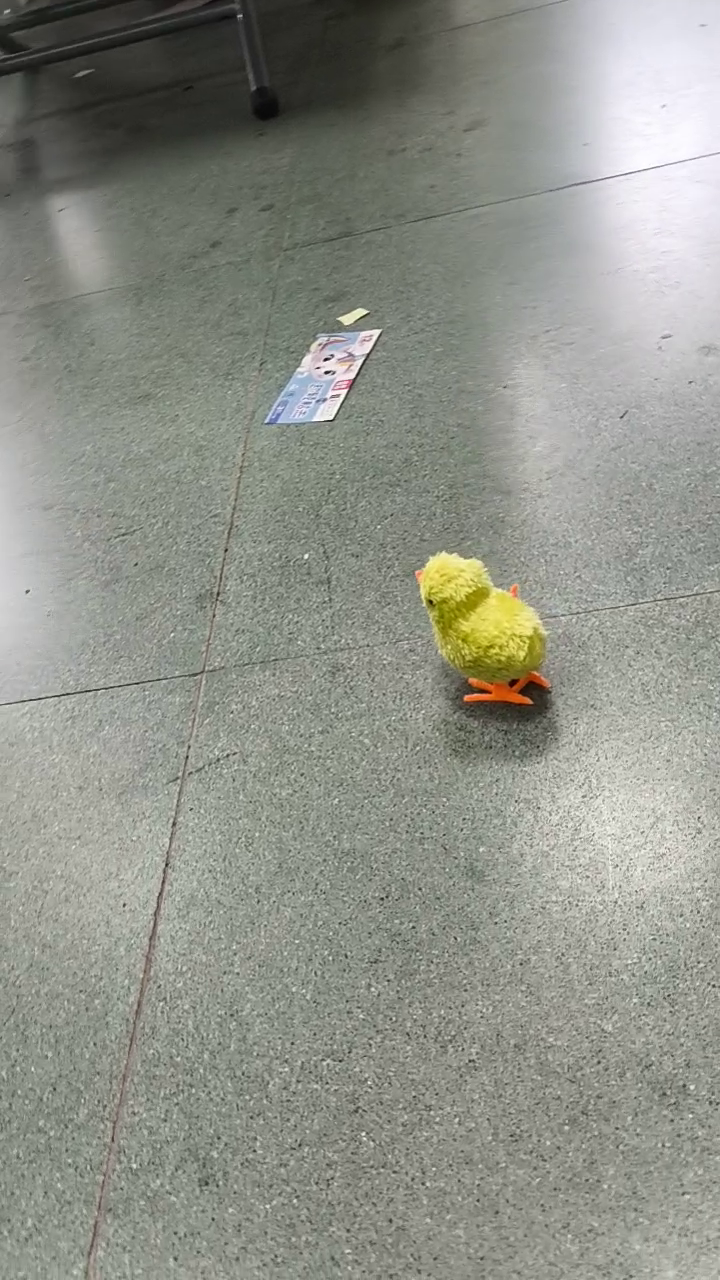yellow chicken: (412, 547, 559, 710)
